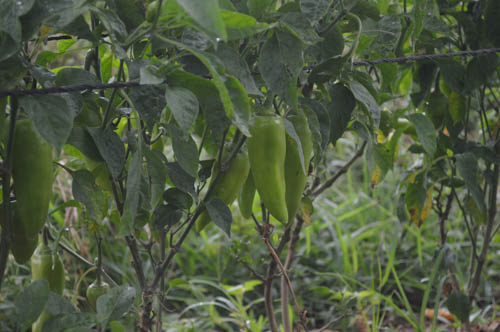ChiliPepper: (8, 121, 55, 232), (194, 150, 245, 235), (251, 116, 287, 219), (287, 114, 312, 218), (30, 254, 63, 327), (1, 201, 38, 263), (238, 175, 257, 221)
